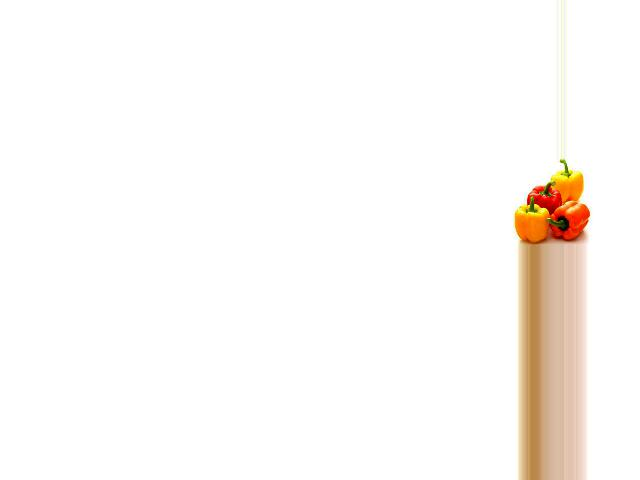bell_pepper: (513, 197, 559, 243)
